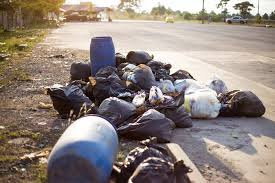garbage: (90, 53, 175, 150), (91, 48, 172, 134), (52, 79, 192, 126), (161, 73, 243, 116), (121, 139, 177, 183)
